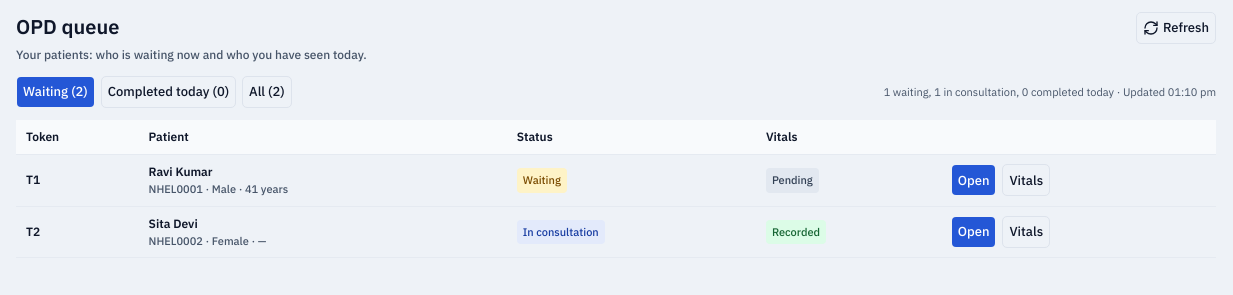
Test: OpdQueue › a failed refresh keeps the list on screen and says so; the next good one clears it
The image size is (1233, 295).
Click the button "Refresh" at {"x": 1176, "y": 28}, box [1136, 12, 1216, 44]
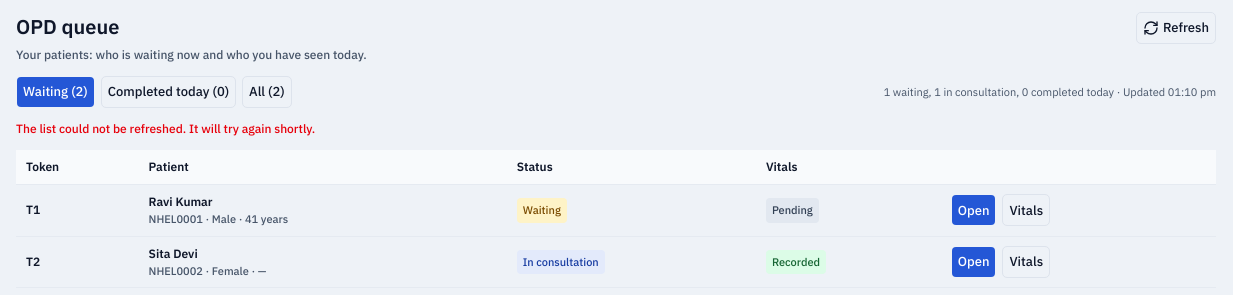
Check: the text "Ravi Kumar" is shown, box [149, 194, 212, 209]
Check: the message "The list could not be refreshed. It will try again shortly." is shown, box [16, 121, 315, 136]
Click the button "Refresh" at {"x": 1176, "y": 28}, box [1136, 12, 1216, 44]
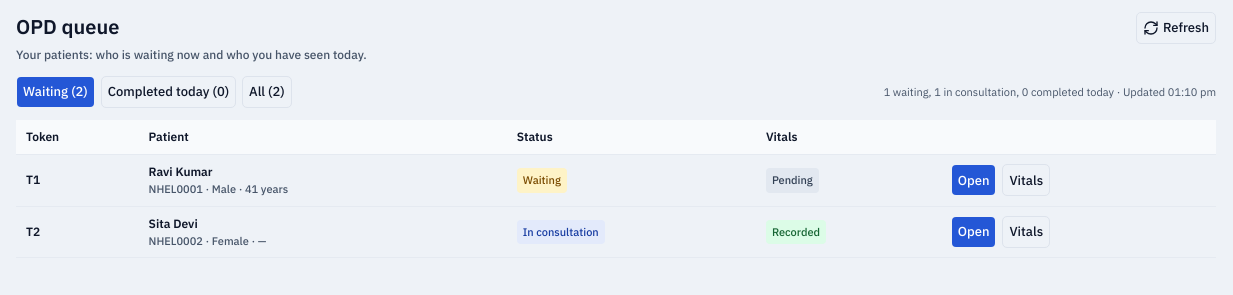
Check: the message "The list could not be refreshed. It will try again shortly." is gone
